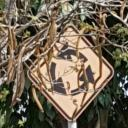Rotatoria: (27, 23, 115, 123)
